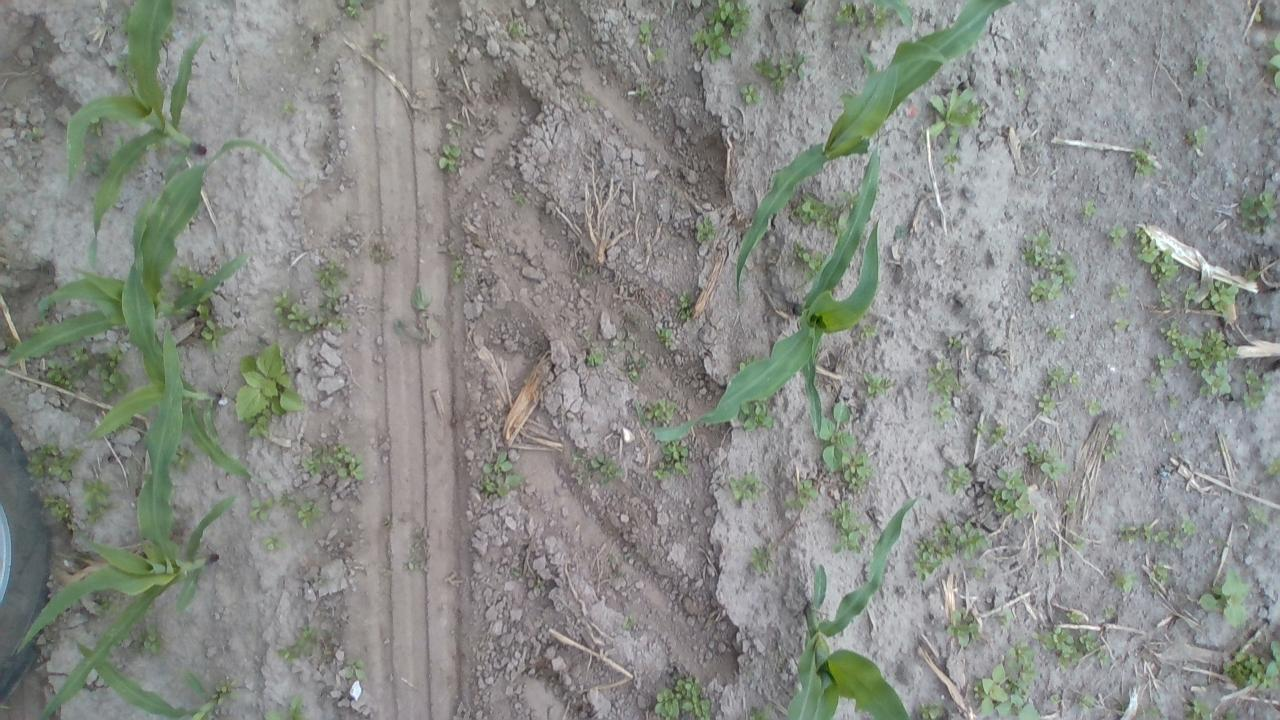Maize: (736, 0, 1013, 313), (18, 322, 236, 716), (633, 126, 881, 442), (5, 136, 298, 377), (78, 180, 255, 486), (62, 0, 210, 271), (784, 496, 916, 720), (76, 645, 218, 720), (871, 0, 912, 25), (791, 0, 809, 11)
Weeds: (234, 342, 306, 440), (1158, 318, 1240, 402), (909, 518, 991, 579), (922, 84, 987, 151), (685, 0, 751, 65), (974, 659, 1044, 720), (1022, 231, 1078, 304), (1199, 562, 1257, 629), (814, 396, 862, 469), (1227, 640, 1280, 702), (1178, 274, 1240, 326), (784, 188, 850, 236), (987, 464, 1036, 526), (1036, 626, 1106, 668), (1130, 228, 1180, 286), (274, 293, 343, 333), (296, 441, 362, 482), (654, 675, 712, 720), (1232, 186, 1280, 237), (397, 284, 440, 340), (1034, 366, 1078, 418), (28, 444, 81, 487), (478, 451, 526, 498), (1116, 520, 1195, 546), (90, 344, 128, 397), (754, 57, 806, 94), (826, 504, 866, 552), (191, 303, 228, 354), (652, 438, 693, 482), (81, 478, 117, 522), (1019, 441, 1064, 476), (278, 618, 313, 662), (929, 358, 966, 399), (1242, 366, 1274, 411), (944, 608, 978, 650), (589, 452, 628, 488), (839, 0, 889, 28), (40, 492, 72, 533), (846, 453, 876, 496), (406, 528, 431, 579), (786, 479, 821, 514), (788, 243, 826, 274), (1145, 354, 1177, 387), (740, 402, 774, 432), (732, 470, 764, 500), (1048, 691, 1093, 712), (1134, 142, 1160, 178), (640, 400, 676, 426), (750, 542, 774, 581), (42, 364, 72, 394), (1180, 126, 1214, 152), (675, 288, 702, 320), (1007, 636, 1039, 662), (945, 464, 972, 494), (696, 219, 722, 249), (294, 500, 320, 530), (265, 702, 308, 720), (1146, 560, 1178, 584), (440, 140, 464, 172), (134, 630, 160, 659), (1187, 695, 1217, 720), (314, 264, 342, 290), (864, 370, 890, 398), (1114, 564, 1136, 596), (1107, 280, 1133, 306), (1081, 198, 1103, 228), (1104, 222, 1130, 247), (988, 423, 1014, 448), (277, 102, 304, 126), (170, 264, 202, 284), (1082, 399, 1112, 420), (175, 446, 198, 473), (624, 354, 646, 382), (1271, 28, 1280, 94), (738, 80, 762, 104), (336, 0, 366, 19), (245, 499, 273, 518), (654, 328, 678, 350), (1062, 498, 1082, 524), (636, 22, 657, 46), (1244, 507, 1268, 528), (370, 246, 395, 266), (1188, 53, 1208, 78), (340, 660, 365, 680), (857, 320, 881, 340), (81, 150, 102, 172), (746, 702, 771, 720), (918, 703, 944, 720), (1042, 545, 1062, 566), (368, 30, 387, 52), (860, 55, 879, 76), (933, 403, 955, 421), (506, 18, 524, 40), (940, 150, 959, 170), (946, 330, 966, 349), (1156, 290, 1174, 311), (66, 347, 84, 368), (586, 345, 603, 367), (995, 609, 1016, 626), (1113, 318, 1132, 336), (1108, 421, 1126, 440), (636, 84, 653, 104), (1267, 453, 1280, 478), (212, 682, 230, 700), (88, 120, 106, 138), (509, 188, 529, 204), (268, 540, 289, 554), (1102, 444, 1120, 460), (1064, 608, 1084, 622), (652, 47, 668, 63), (1164, 426, 1180, 442), (1052, 328, 1070, 342), (29, 127, 48, 140), (452, 260, 464, 280), (94, 594, 111, 608), (620, 616, 638, 628), (738, 356, 756, 368), (278, 488, 288, 508), (1166, 391, 1176, 408), (970, 423, 981, 438), (1073, 536, 1086, 548), (1103, 603, 1114, 616), (581, 93, 591, 105), (444, 121, 458, 129)
